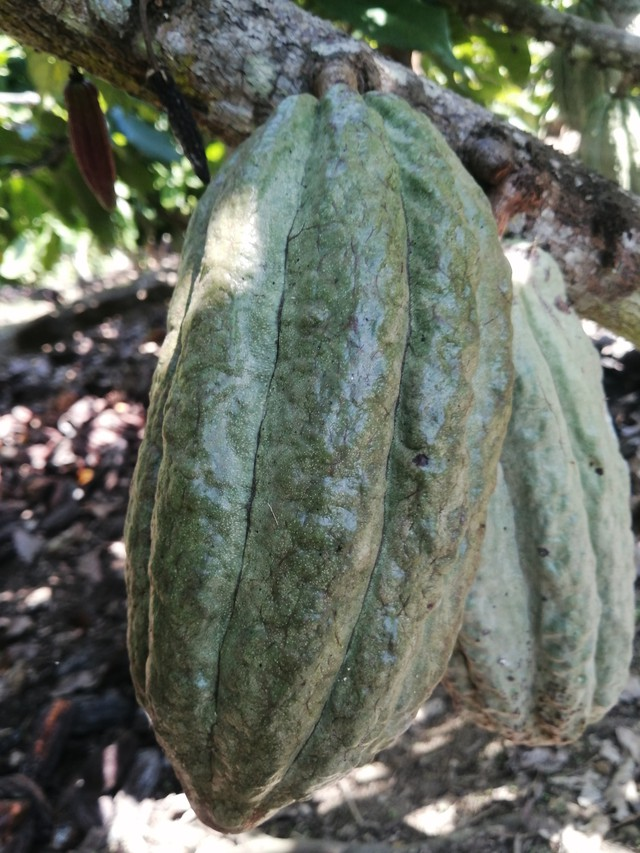Health: (105, 65, 530, 841)
